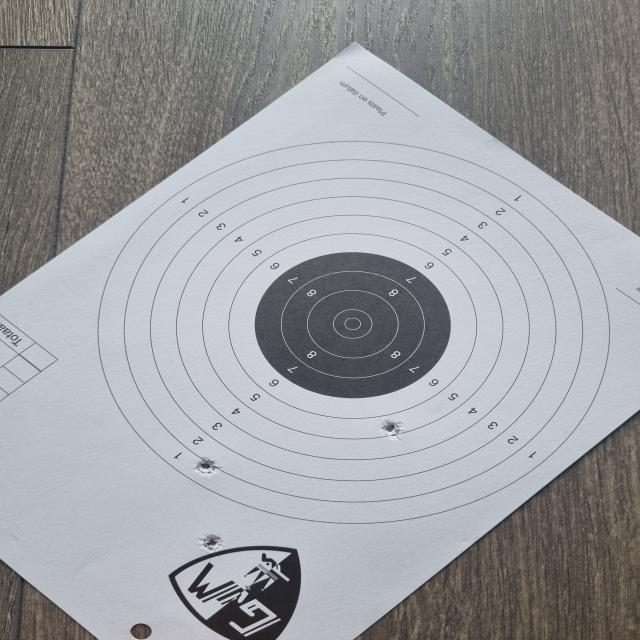0: (198, 534, 225, 550)
3: (193, 459, 223, 474)
5: (379, 420, 403, 440)
Target: (95, 141, 611, 525)
black_contour: (252, 251, 451, 399)
